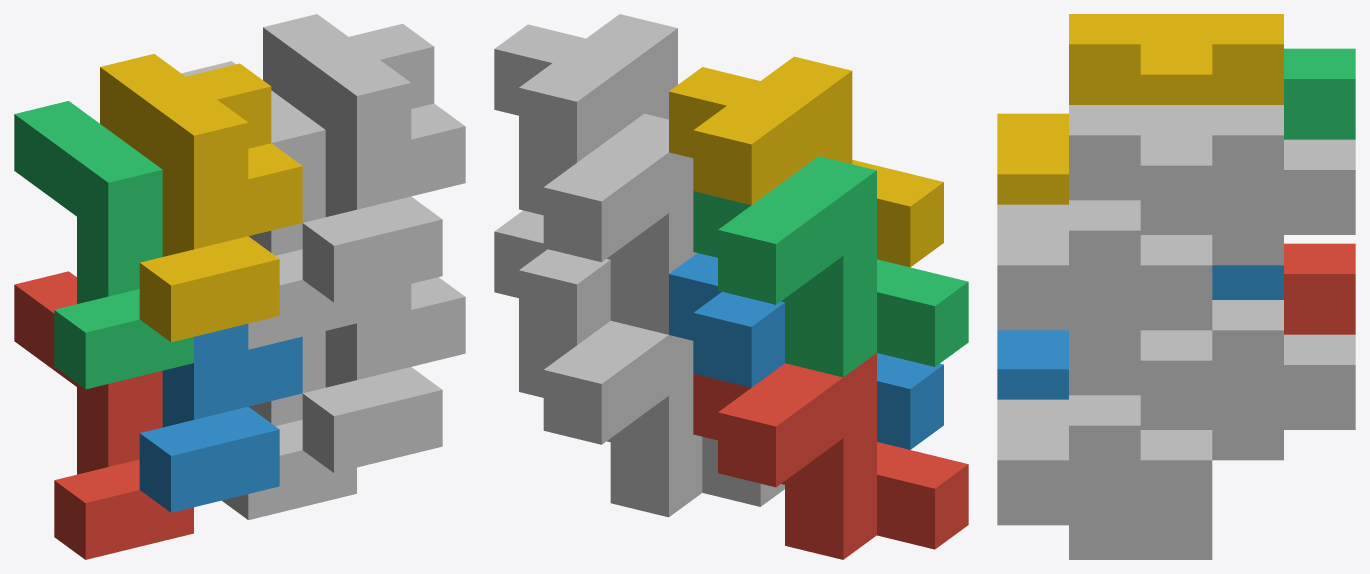
Rendered from tiling.obj.
3 renders of one model, left to right at view 1: azimuth 30°, elevation 25°; view 2: azimuth 150°, elevation 25°; view 3: azimuth 270°, elevation 25°, orthographic. The views are drawn at different scales.
Parts seen in each view (by area): view 1: copy_1_domain_4, copy_1_domain_8, copy_1_domain_3, copy_1_domain_6, copy_1_domain_2, copy_1_domain_1, copy_1_domain_7, copy_1_domain_5; view 2: copy_1_domain_3, copy_1_domain_1, copy_1_domain_5, copy_1_domain_4, copy_1_domain_7, copy_1_domain_8, copy_1_domain_2, copy_1_domain_6; view 3: copy_1_domain_8, copy_1_domain_6, copy_1_domain_4, copy_1_domain_5, copy_1_domain_7, copy_1_domain_2, copy_1_domain_1, copy_1_domain_3.
Boxes of the visible parts, x1,y1,x2,y2 form: copy_1_domain_4: (100,54,302,342); copy_1_domain_8: (263,14,465,302); copy_1_domain_3: (14,101,193,389); copy_1_domain_6: (302,277,465,472); copy_1_domain_2: (139,323,302,512); copy_1_domain_1: (14,271,193,559); copy_1_domain_7: (181,61,356,349); copy_1_domain_5: (222,331,356,519); copy_1_domain_3: (693,156,968,377); copy_1_domain_1: (693,353,968,559); copy_1_domain_5: (519,321,784,517); copy_1_domain_4: (669,56,943,267); copy_1_domain_7: (519,113,696,334); copy_1_domain_8: (494,14,677,162); copy_1_domain_2: (669,253,943,449); copy_1_domain_6: (494,210,610,344); copy_1_domain_8: (997,105,1283,330); copy_1_domain_6: (997,300,1283,525); copy_1_domain_4: (997,14,1283,204); copy_1_domain_5: (1069,334,1355,559); copy_1_domain_7: (1140,139,1355,330); copy_1_domain_2: (997,265,1283,399); copy_1_domain_1: (1284,243,1355,334); copy_1_domain_3: (1284,48,1355,139).
Size of the model in its own units: 7 by 7 by 5.
